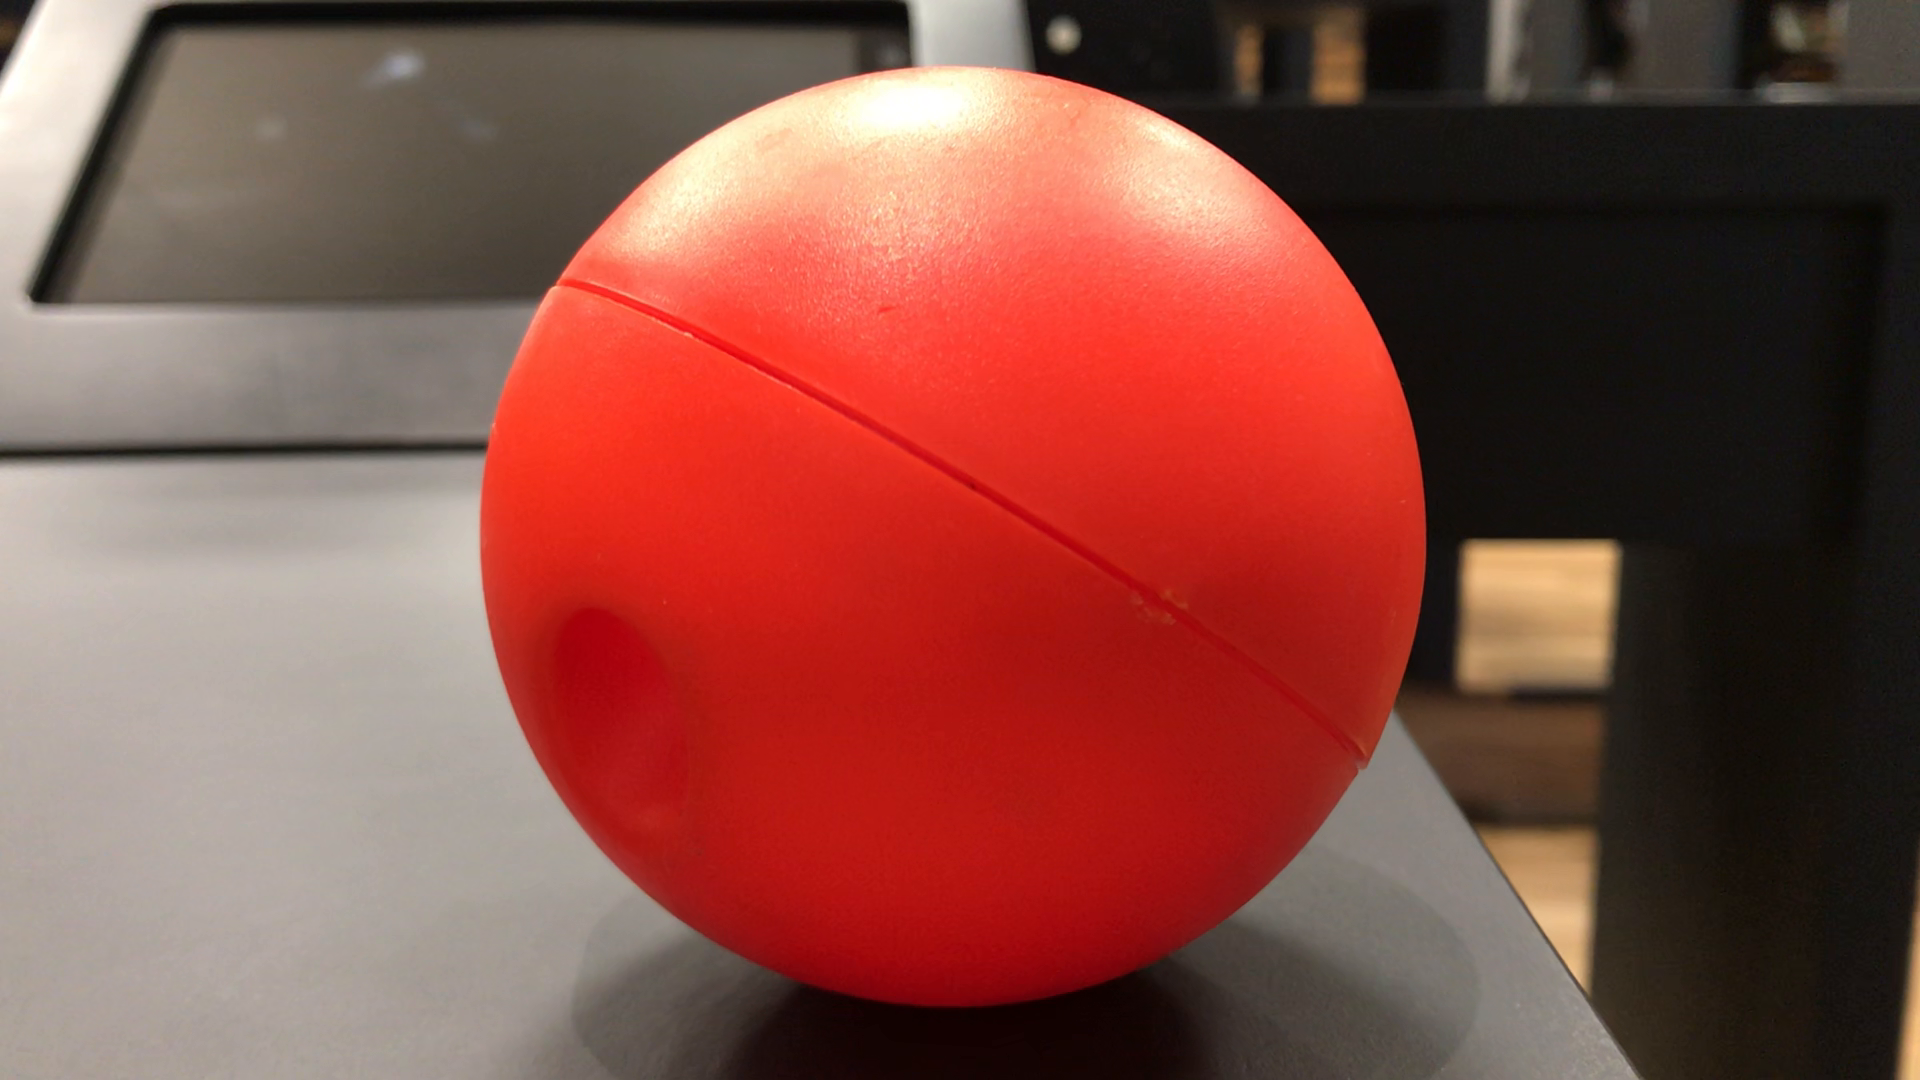Ball: (480, 69, 1429, 996)
